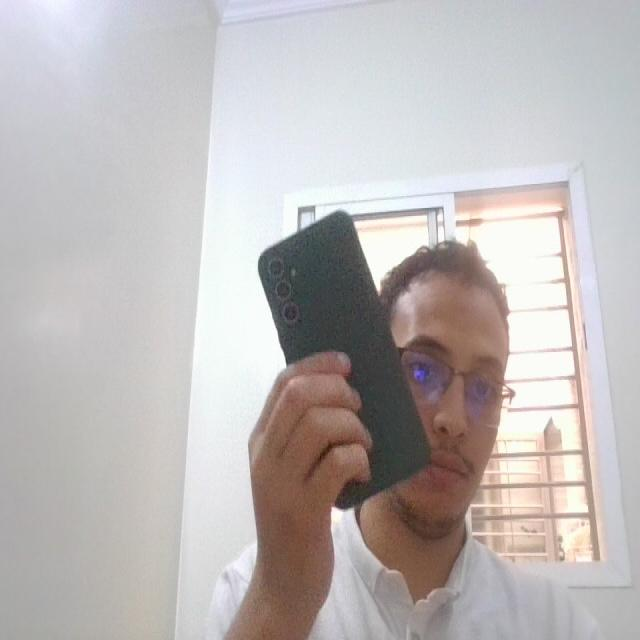phone: (246, 203, 437, 517)
